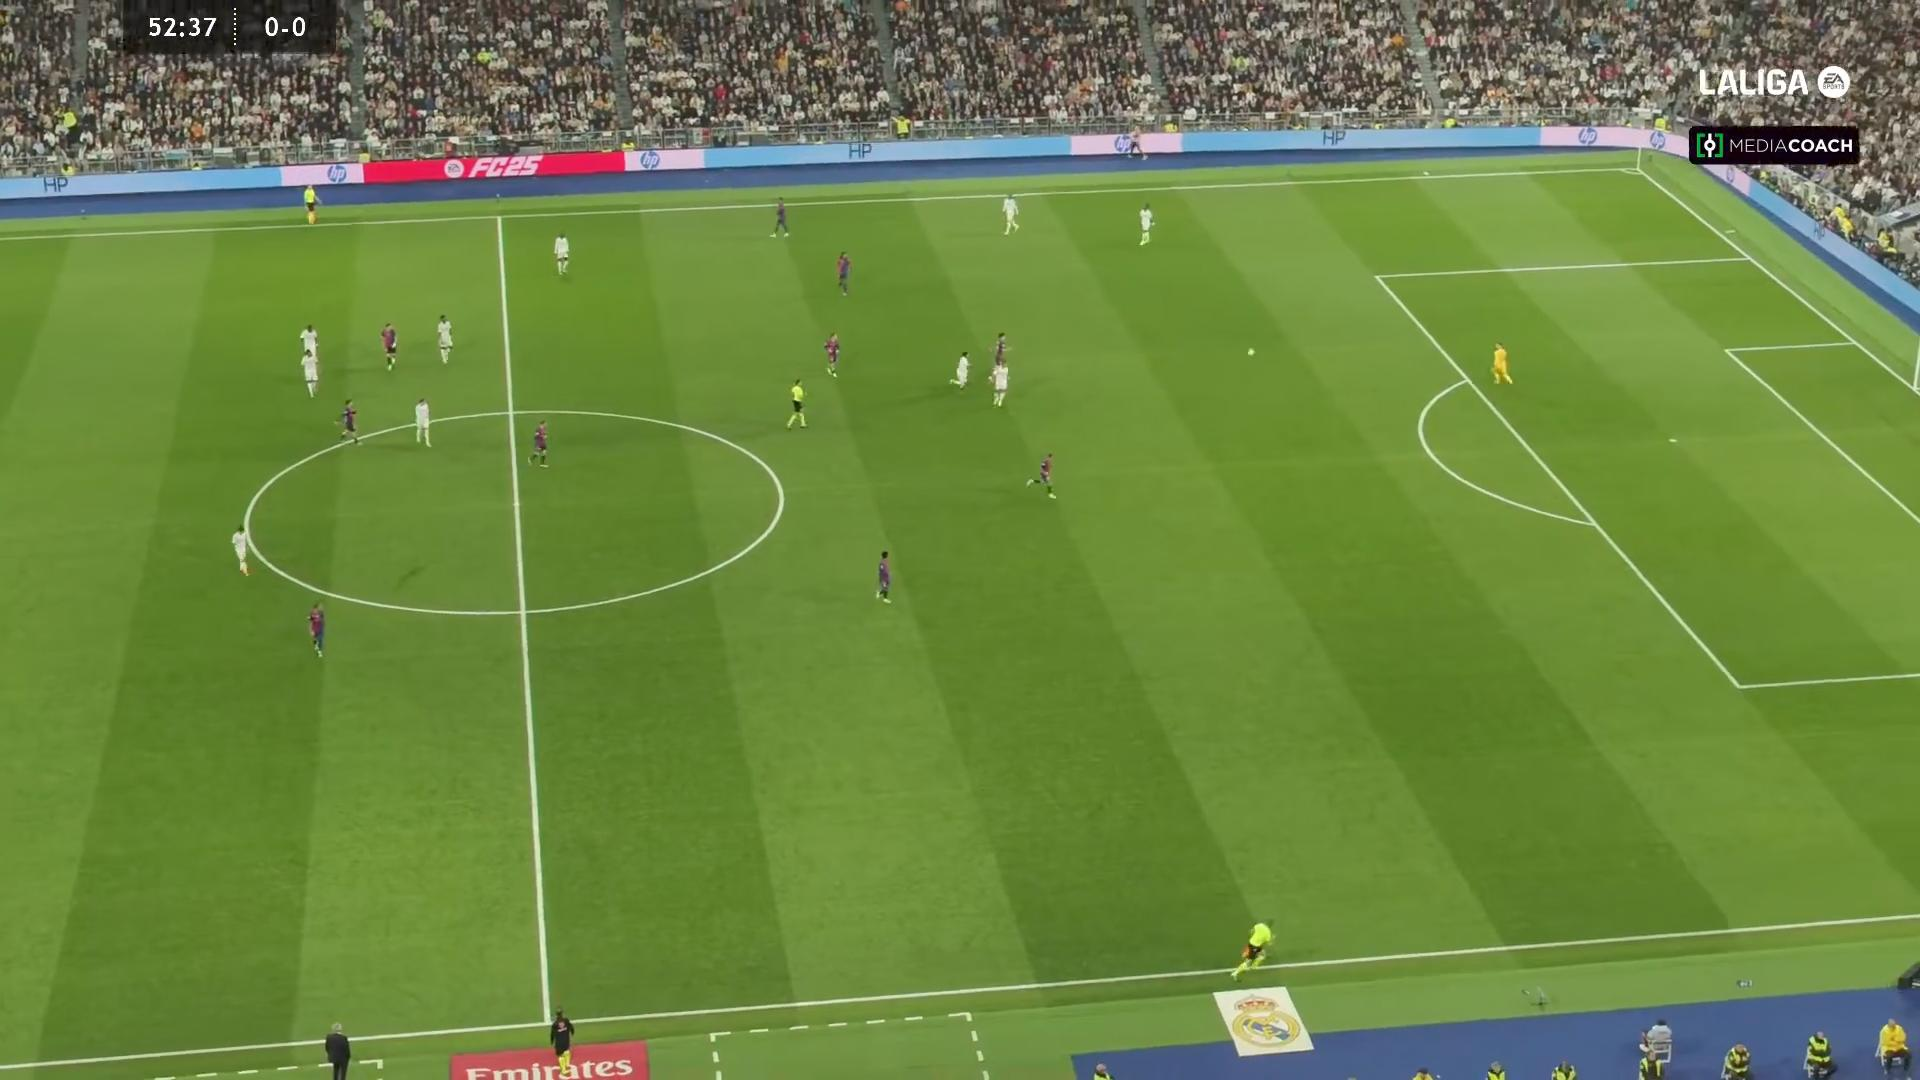ball: (1247, 348, 1255, 357)
goalkeeper: (1489, 342, 1513, 384)
player: (1874, 1017, 1911, 1078), (1637, 1017, 1673, 1078), (1803, 1030, 1836, 1078), (1025, 452, 1057, 499), (990, 333, 1012, 386), (1720, 1042, 1751, 1078), (306, 601, 325, 658), (526, 420, 549, 467), (336, 398, 359, 444), (988, 358, 1009, 406), (230, 525, 250, 575), (300, 349, 320, 398), (874, 549, 892, 603), (299, 325, 319, 373), (948, 350, 971, 390), (435, 313, 453, 364), (413, 397, 431, 447), (379, 321, 397, 371), (552, 231, 570, 277), (1001, 193, 1020, 236), (770, 195, 789, 238), (823, 332, 840, 378), (1137, 201, 1154, 246), (835, 250, 851, 296)
referee: (1228, 919, 1273, 981), (549, 1007, 575, 1078), (786, 377, 807, 428), (302, 183, 319, 225)
